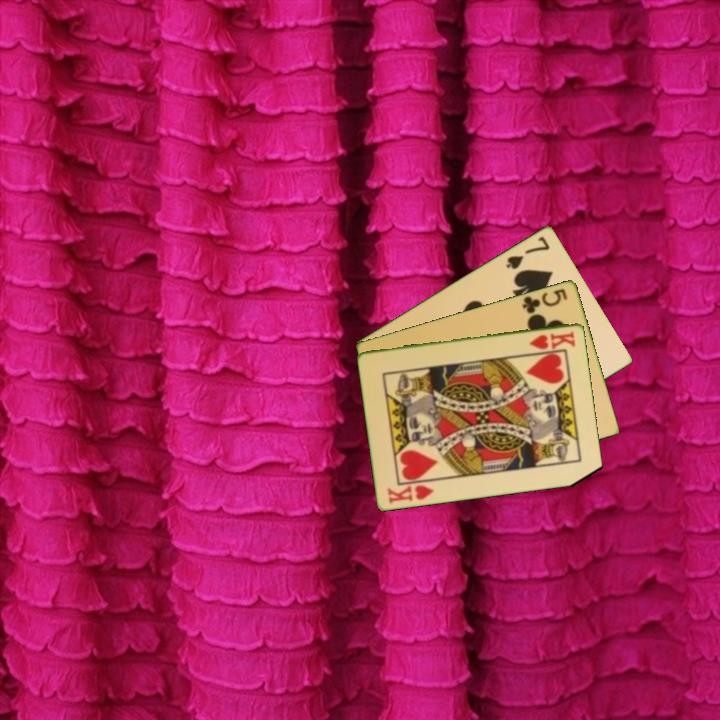5c: (519, 285, 570, 316)
7s: (502, 232, 553, 272)
Kh: (384, 481, 437, 506), (526, 327, 578, 352)
